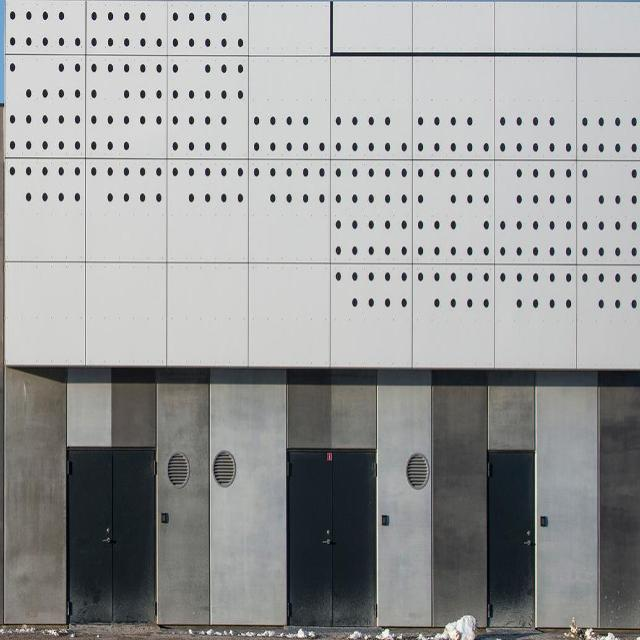door: (284, 447, 379, 629), (65, 446, 158, 630), (486, 449, 536, 633)
wall: (6, 0, 639, 630)
